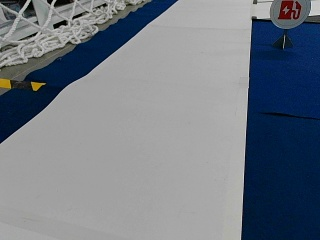battery: (268, 0, 311, 29)
